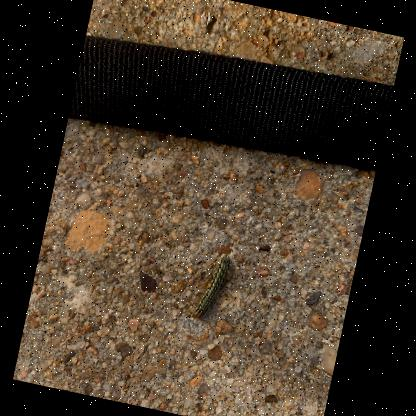Fall Armyworm Larvae: (191, 249, 233, 324)
